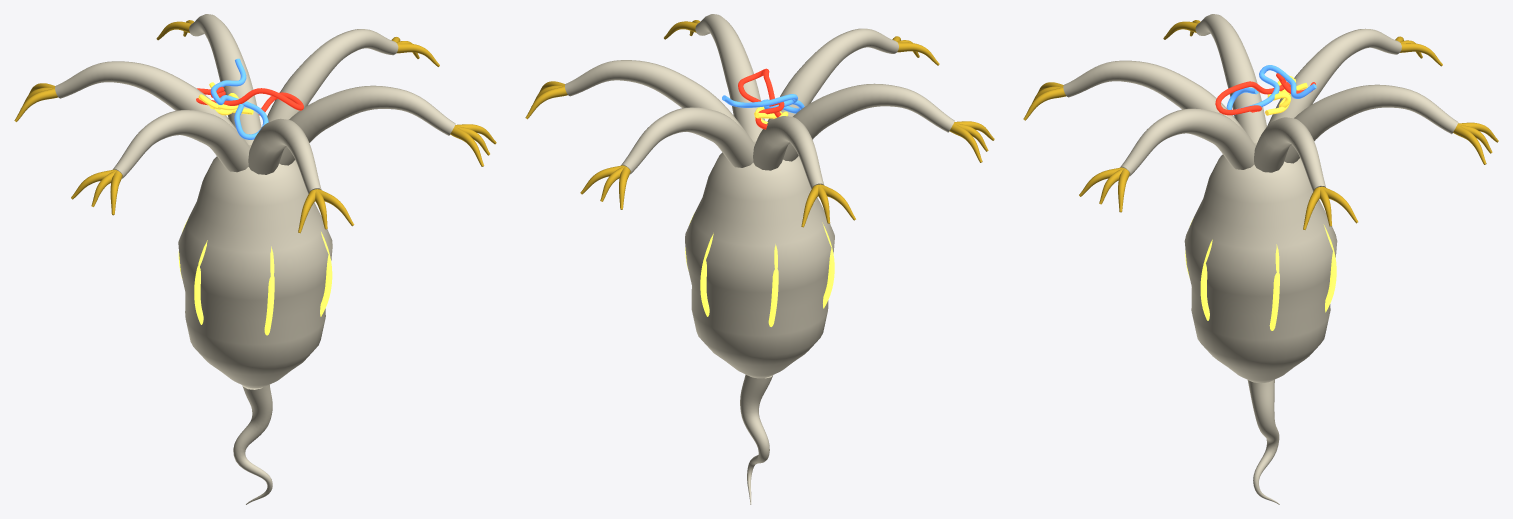
Rendered from gomen-clearers.glb.
The picture shows the model from 3 angles, left to right: view 1: azimuth 30°, elevation 25°; view 2: azimuth 150°, elevation 25°; view 3: azimuth 270°, elevation 25°; orthographic projection. The views are drawn at different scales.
Parts seen in each view (by area): view 1: clearer body, clearer hand 5, clearer hand 3, clearer hand 2, clearer hand 0, clearer hand 4, clearer hand 1, clearer root, gathered thread 1, gathered thread 0; view 2: clearer body, clearer hand 3, clearer hand 1, clearer hand 0, clearer hand 4, clearer hand 5, clearer hand 2, clearer root, gathered thread 0, gathered thread 1; view 3: clearer body, clearer hand 1, clearer hand 5, clearer hand 4, clearer hand 2, clearer hand 3, clearer hand 0, clearer root, gathered thread 1, gathered thread 0.
Part boxes in pixels (left/top/right/bottom): clearer body: left=178, top=145, right=332, bottom=388; clearer hand 5: left=279, top=85, right=455, bottom=165; clearer hand 3: left=113, top=110, right=250, bottom=178; clearer hand 2: left=55, top=61, right=248, bottom=144; clearer hand 0: left=267, top=29, right=398, bottom=121; clearer hand 4: left=248, top=118, right=321, bottom=194; clearer hand 1: left=189, top=14, right=261, bottom=144; clearer root: left=233, top=385, right=272, bottom=504; gathered thread 1: left=210, top=58, right=268, bottom=139; gathered thread 0: left=196, top=86, right=303, bottom=115; clearer body: left=685, top=141, right=834, bottom=378; clearer hand 3: left=783, top=83, right=954, bottom=161; clearer hand 1: left=621, top=107, right=754, bottom=174; clearer hand 0: left=565, top=60, right=753, bottom=141; clearer hand 4: left=767, top=28, right=898, bottom=122; clearer hand 5: left=695, top=14, right=764, bottom=141; clearer hand 2: left=753, top=116, right=823, bottom=189; clearer root: left=740, top=374, right=772, bottom=504; gathered thread 0: left=738, top=68, right=784, bottom=129; gathered thread 1: left=722, top=94, right=804, bottom=113; clearer body: left=1184, top=143, right=1337, bottom=383; clearer hand 1: left=1284, top=84, right=1458, bottom=163; clearer hand 5: left=1120, top=108, right=1255, bottom=176; clearer hand 4: left=1063, top=60, right=1252, bottom=141; clearer hand 2: left=1267, top=28, right=1401, bottom=125; clearer hand 3: left=1195, top=14, right=1266, bottom=143; clearer hand 0: left=1254, top=117, right=1325, bottom=191; clearer root: left=1247, top=379, right=1279, bottom=504; gathered thread 1: left=1226, top=65, right=1316, bottom=115; gathered thread 0: left=1215, top=73, right=1315, bottom=115.
Size of the model in its own units: 2.03 by 2.05 by 2.05.
